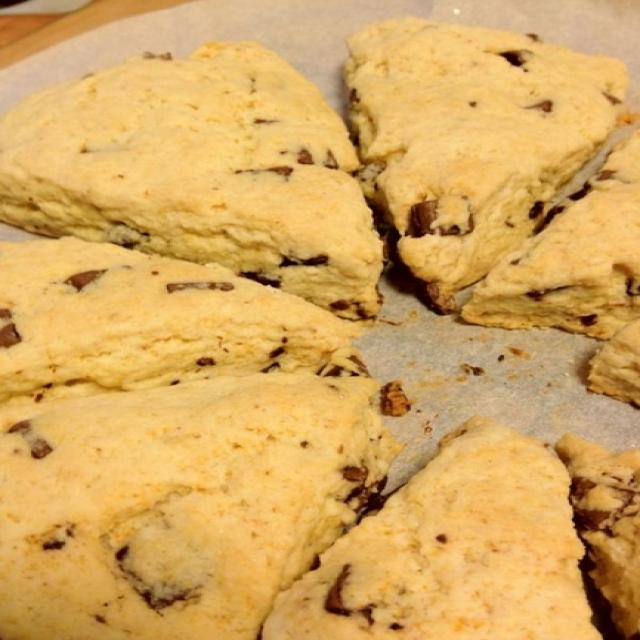面包点心: (12, 21, 624, 618)
